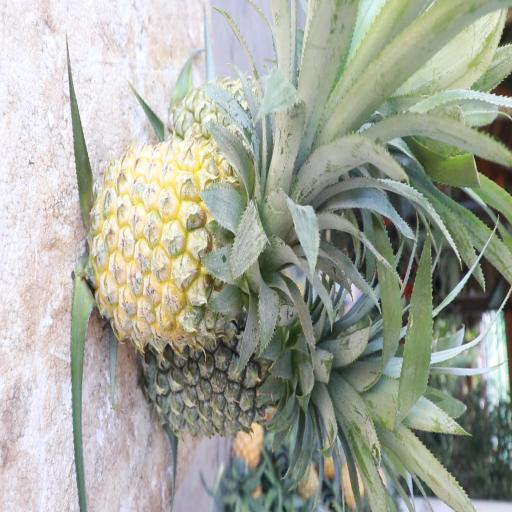Pineapple - v8 v1: (92, 140, 322, 349)
